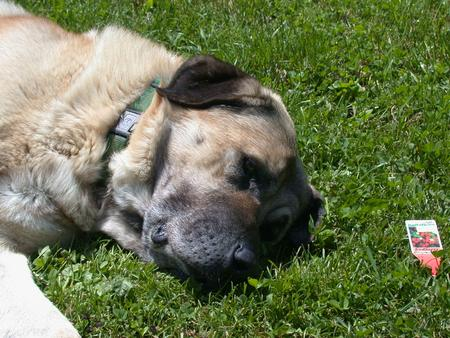kangal: (0, 0, 324, 338)
